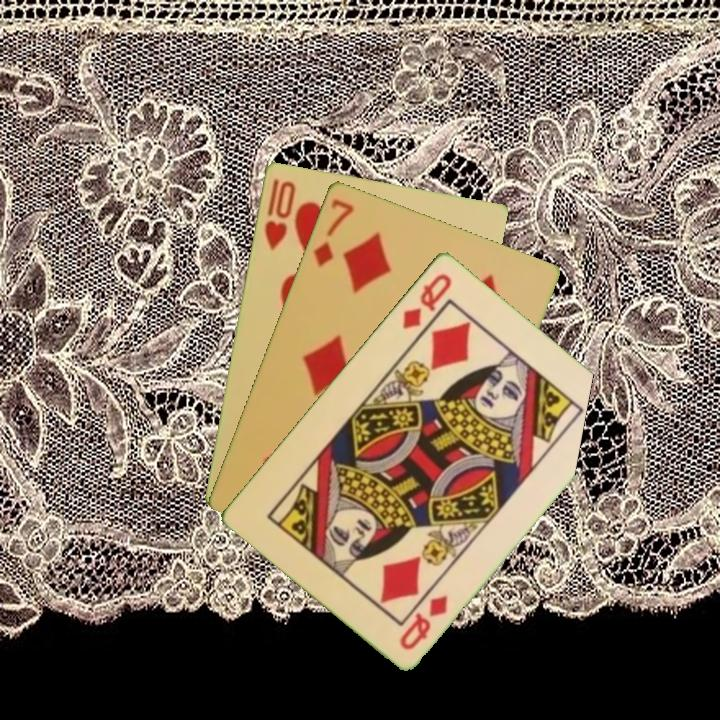10h: (260, 174, 298, 253)
7d: (309, 194, 357, 269)
Qd: (398, 269, 455, 332), (395, 590, 451, 653)
